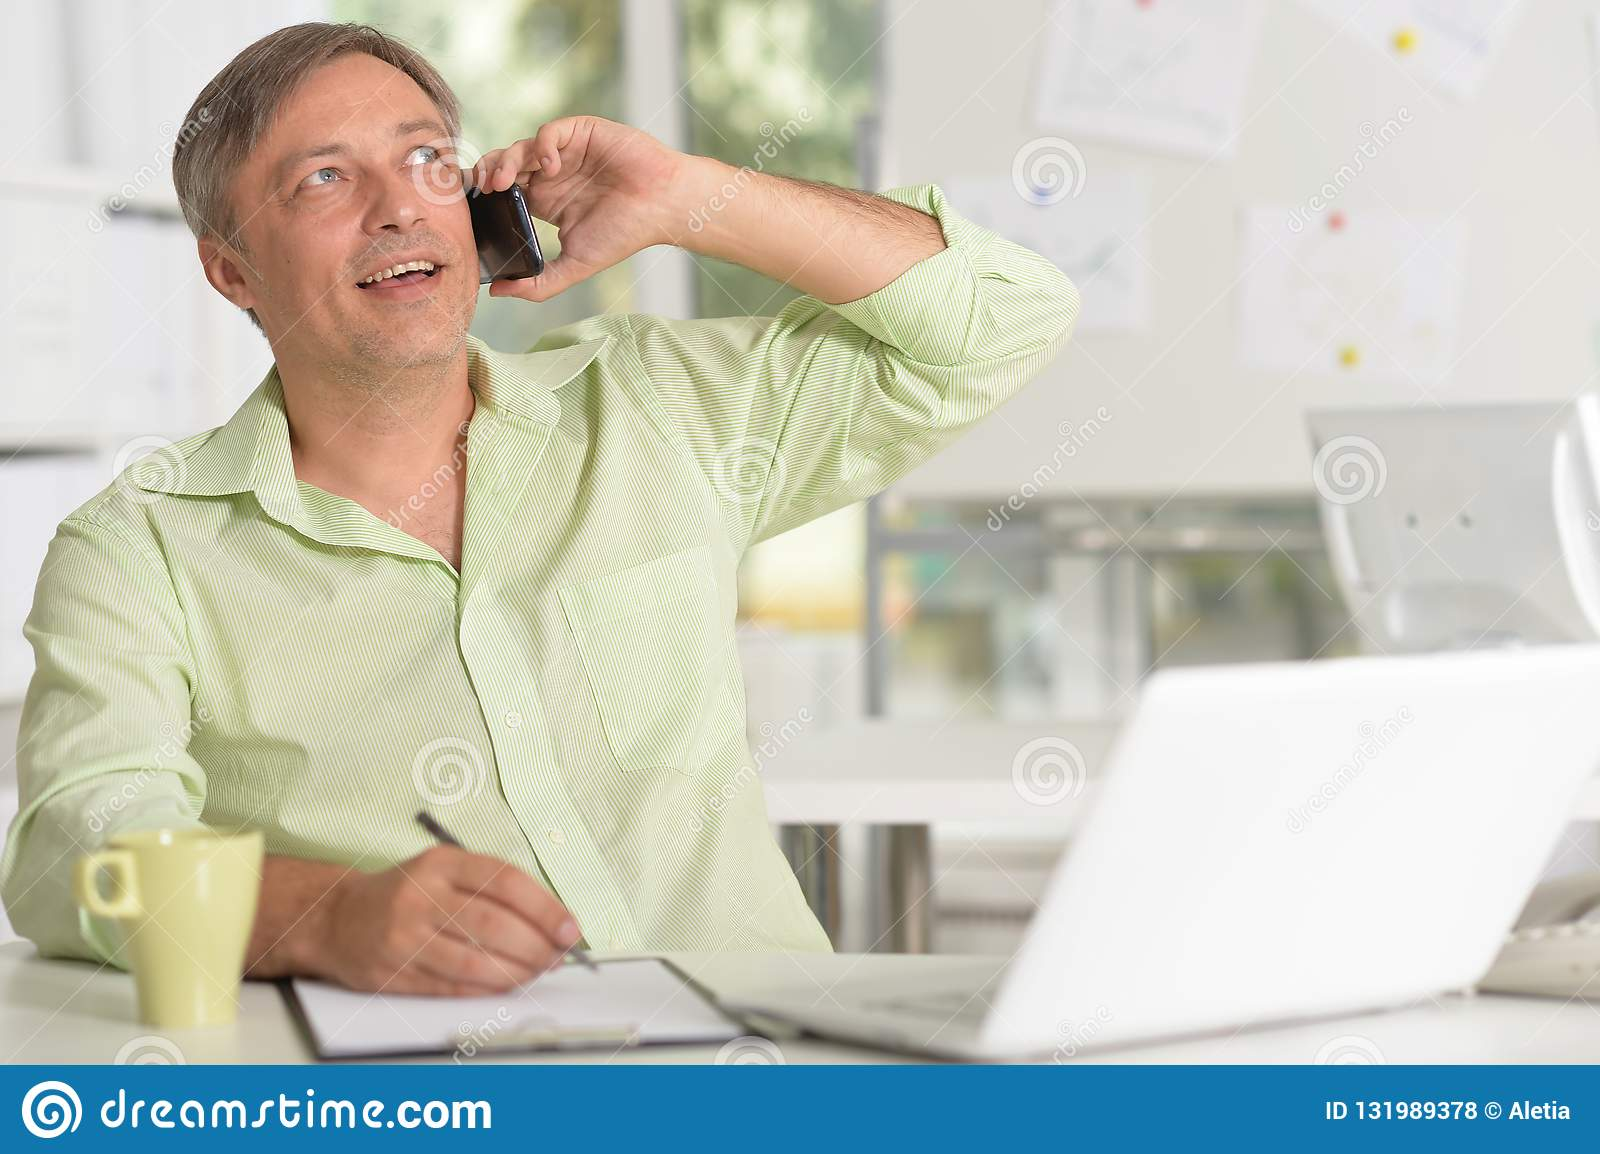phone: (465, 176, 552, 286)
talk: (273, 102, 694, 376)
